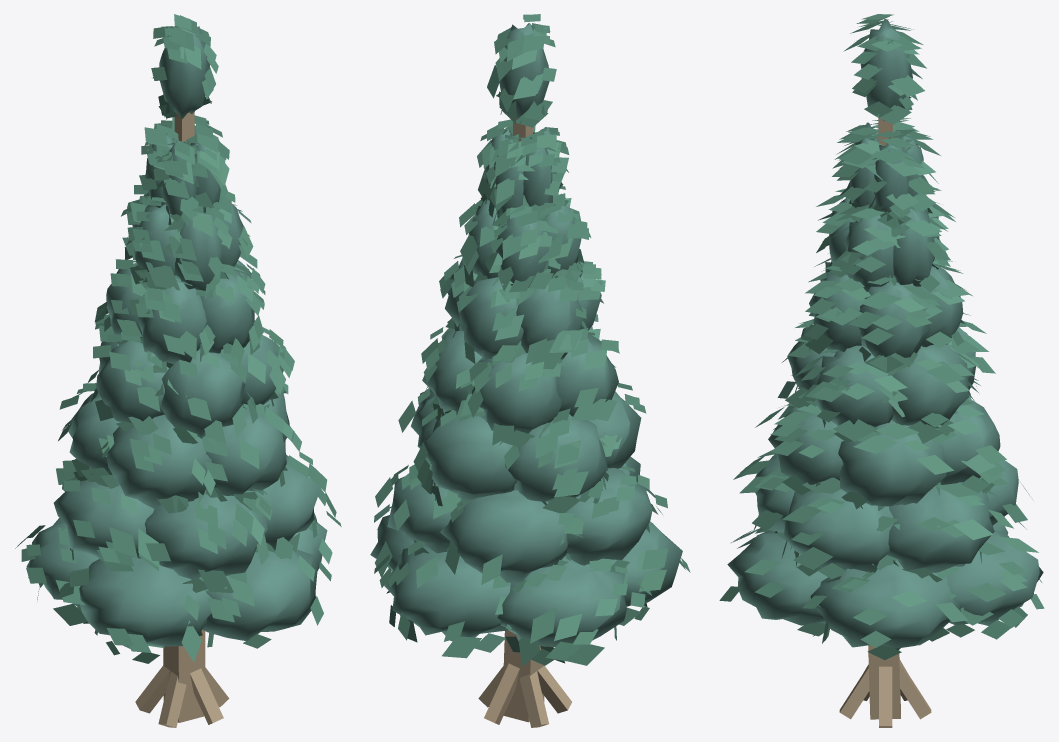
File: spruce.glb
3 renders of one model, left to right at view 1: azimuth 30°, elevation 25°; view 2: azimuth 150°, elevation 25°; view 3: azimuth 270°, elevation 25°, orthographic.
Parts seen in each view (by area): view 1: SourceMesh_00078, SourceMesh_00044, SourceMesh_00043, SourceMesh_00048, SourceMesh_00053, SourceMesh_00057, SourceMesh_00049, SourceMesh_00052, SourceMesh_00058, SourceMesh_00047, SourceMesh_00062, SourceMesh_00066 (+15 smaller); view 2: SourceMesh_00078, SourceMesh_00050, SourceMesh_00046, SourceMesh_00045, SourceMesh_00055, SourceMesh_00049, SourceMesh_00054, SourceMesh_00059, SourceMesh_00064, SourceMesh_00051, SourceMesh_00063, SourceMesh_00058 (+16 smaller); view 3: SourceMesh_00078, SourceMesh_00042, SourceMesh_00051, SourceMesh_00056, SourceMesh_00047, SourceMesh_00043, SourceMesh_00046, SourceMesh_00060, SourceMesh_00061, SourceMesh_00052, SourceMesh_00065, SourceMesh_00055 (+15 smaller).
Part boxes in pixels (x1,y1,x2,y2): SourceMesh_00078: (15,14,341,663); SourceMesh_00044: (79,556,211,648); SourceMesh_00043: (202,549,317,640); SourceMesh_00048: (144,494,267,579); SourceMesh_00053: (107,414,211,508); SourceMesh_00057: (161,348,245,438); SourceMesh_00049: (53,476,154,561); SourceMesh_00052: (206,407,286,495); SourceMesh_00058: (96,341,168,423); SourceMesh_00047: (247,454,320,550); SourceMesh_00062: (137,278,206,364); SourceMesh_00066: (200,270,254,353); SourceMesh_00078: (374,14,690,666); SourceMesh_00050: (440,490,568,583); SourceMesh_00046: (384,546,510,641); SourceMesh_00045: (497,556,626,646); SourceMesh_00055: (422,413,517,500); SourceMesh_00049: (565,468,652,565); SourceMesh_00054: (505,414,607,502); SourceMesh_00059: (472,353,561,433); SourceMesh_00064: (458,277,523,359); SourceMesh_00051: (387,457,453,553); SourceMesh_00063: (516,283,582,359); SourceMesh_00058: (556,333,618,416); SourceMesh_00078: (719,14,1044,660); SourceMesh_00042: (810,560,960,648); SourceMesh_00051: (887,482,994,572); SourceMesh_00056: (838,419,947,506); SourceMesh_00047: (784,489,892,572); SourceMesh_00043: (727,530,827,625); SourceMesh_00046: (947,530,1043,625); SourceMesh_00060: (892,344,968,428); SourceMesh_00061: (816,345,893,427); SourceMesh_00052: (768,406,843,484); SourceMesh_00065: (856,280,930,357); SourceMesh_00055: (938,399,1000,484).
Size of the model in its own units: 2.26 by 5.27 by 2.23.
